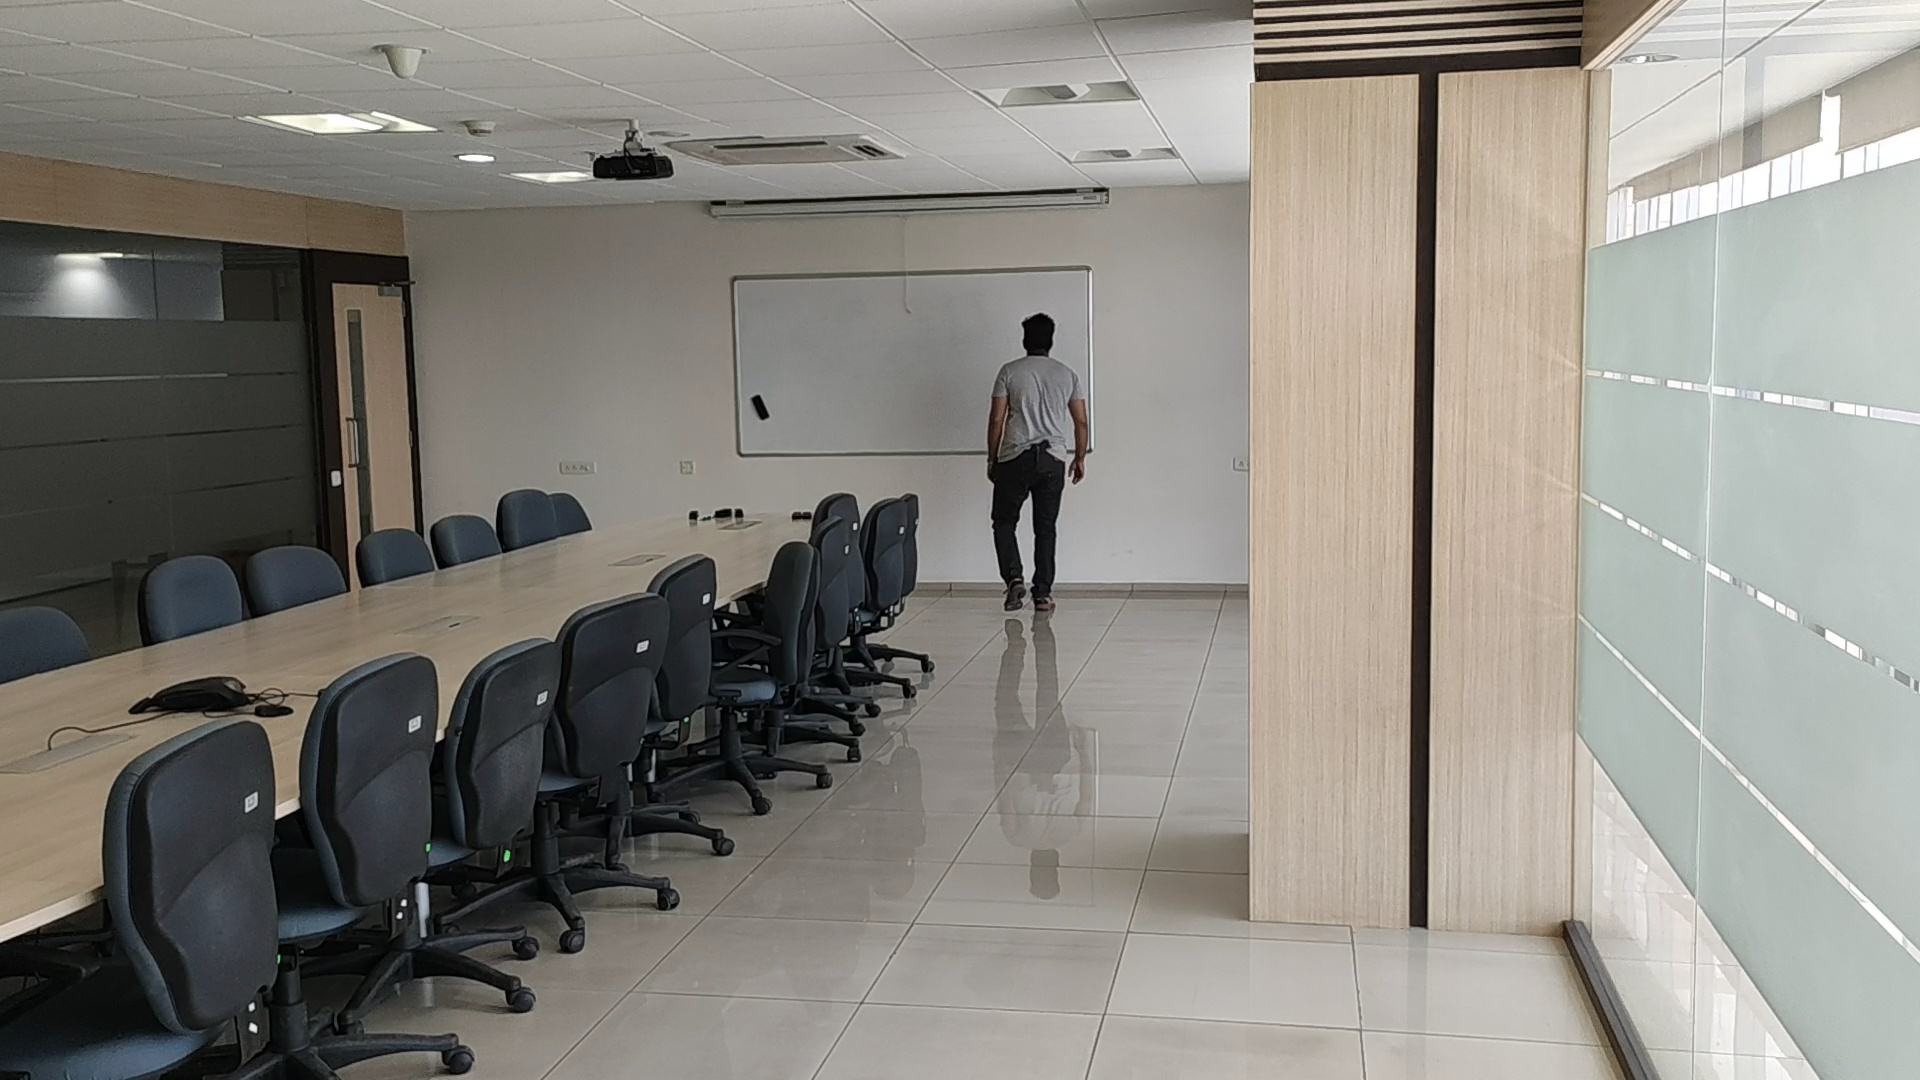gun: (1031, 440, 1052, 450)
